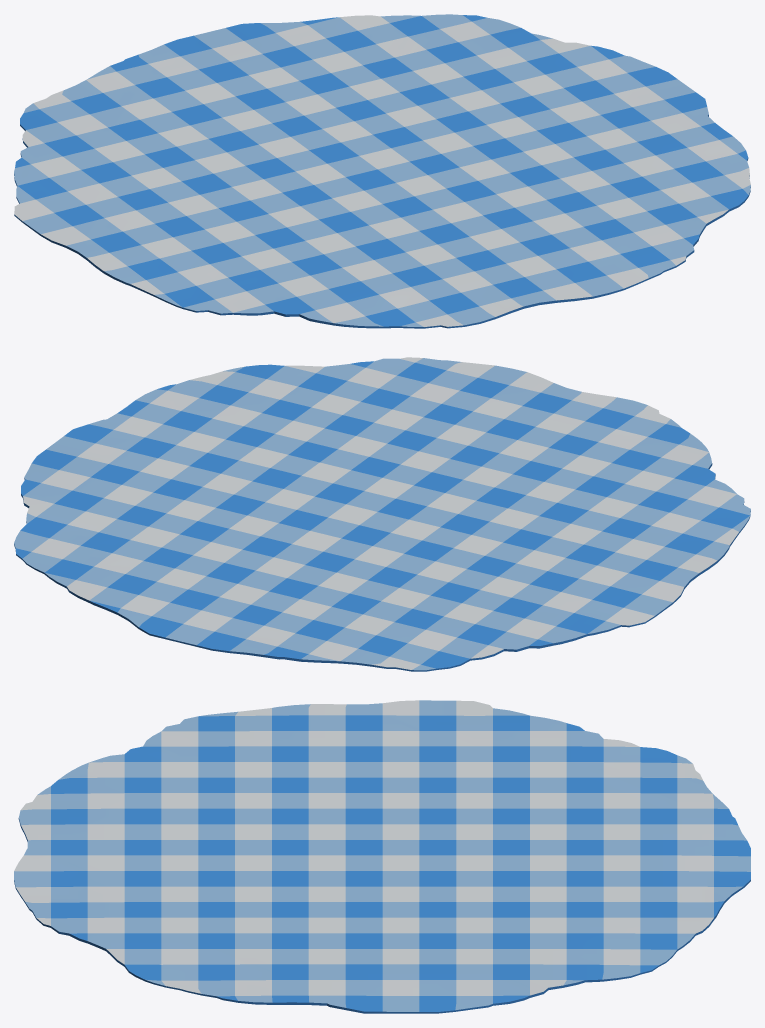
Rendered from cloth_blue.glb.
3 views of the same model, one above another, from view 1: azimuth 30°, elevation 25°; view 2: azimuth 150°, elevation 25°; view 3: azimuth 270°, elevation 25° (orthographic).
Visible parts, largest first — view 1: body; view 2: body; view 3: body.
Boxes of the visible parts, <box> form: body: <box>14,14,750,328</box>; body: <box>14,357,750,671</box>; body: <box>14,700,750,1013</box>.
Bounding box in the file's own units: 3 × 0.011 × 3.
